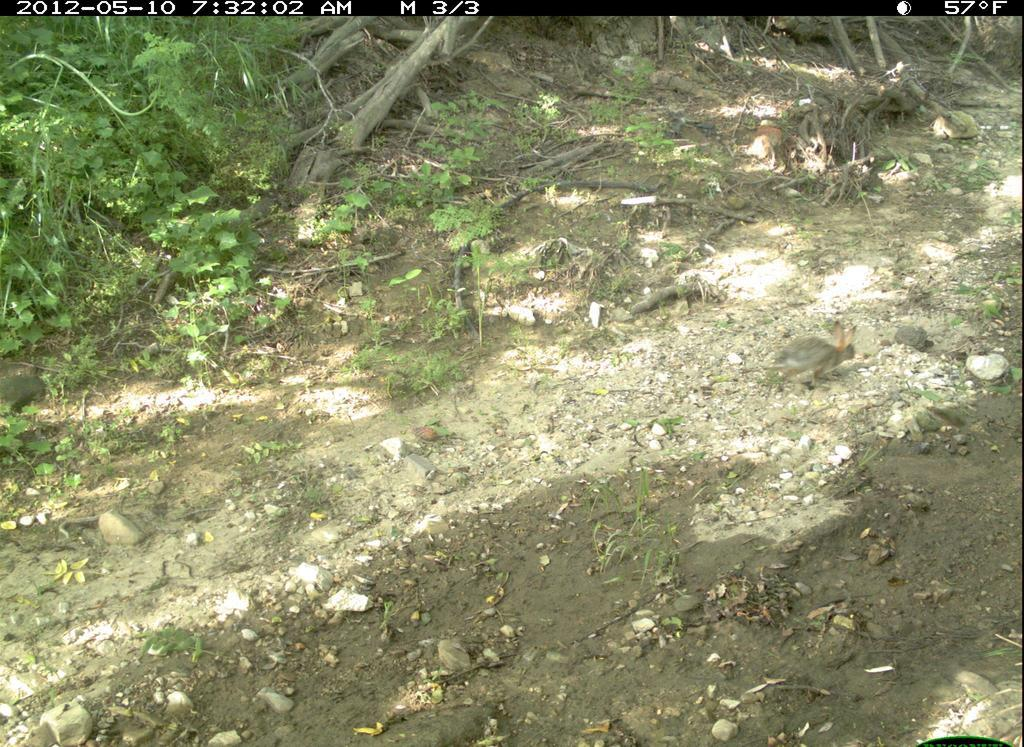rabbit: (772, 310, 868, 395)
